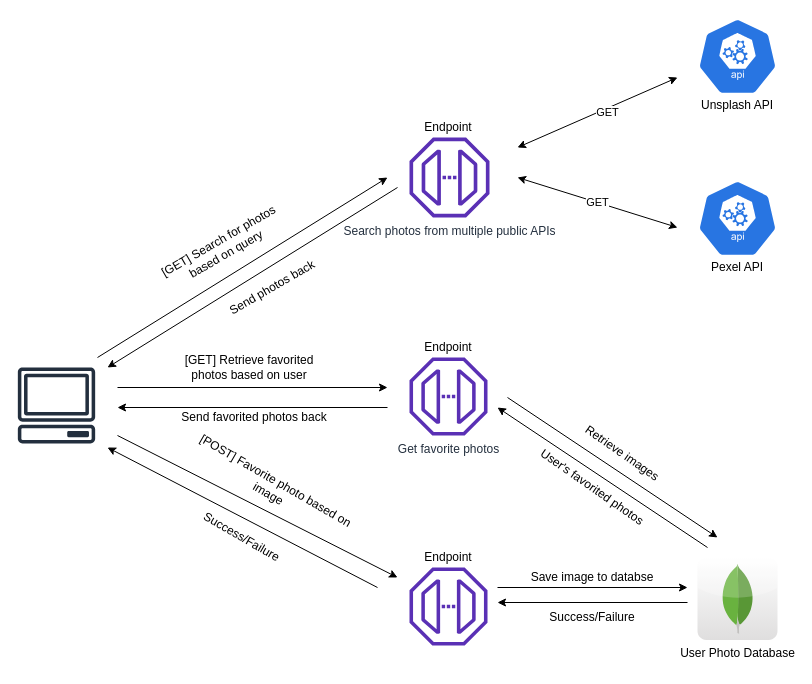
Image size: 812x684. Some labels were removed from this diagram. The shapes that lost their labels are listed below. From the top down, each one's centre as x and y in pixels, then its label:
At (x=56, y=405): "Client".
At (x=448, y=606): "Favorite photos".
